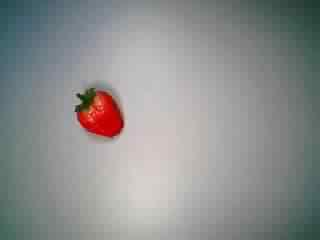strawberry: (58, 80, 131, 144)
